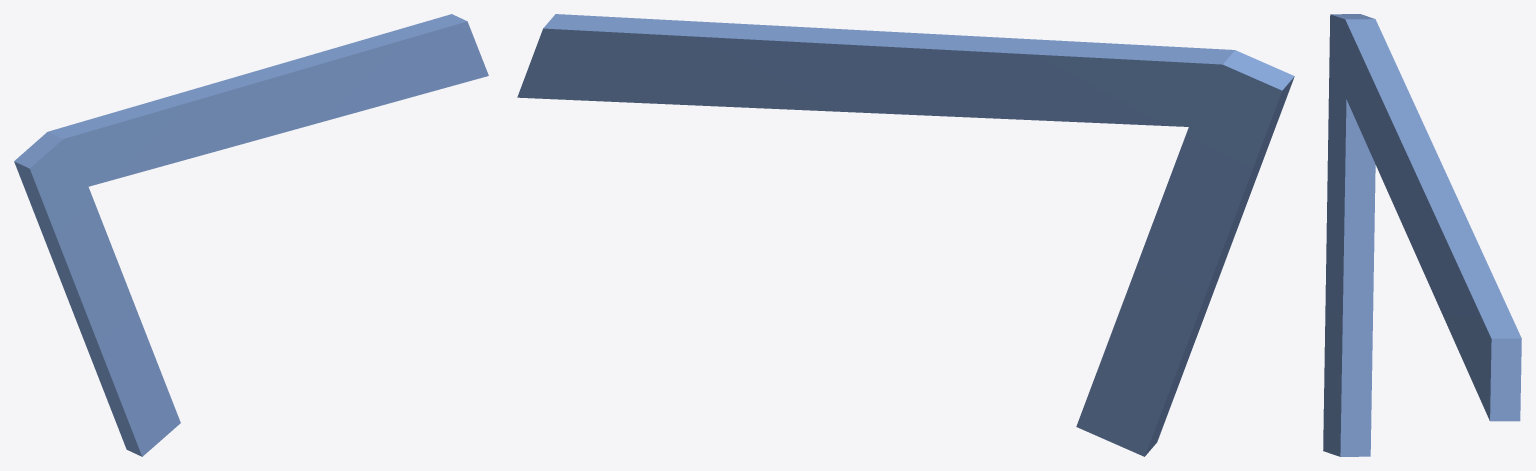
File: New_Number_7.gltf
3 renders of one model, left to right at view 1: azimuth 30°, elevation 25°; view 2: azimuth 150°, elevation 25°; view 3: azimuth 270°, elevation 25°, orthographic. The views are drawn at different scales.
Visible parts, largest first — view 1: Part 133; view 2: Part 133; view 3: Part 133.
Part boxes in pixels (x1,y1,x2,y2): Part 133: (14, 14, 488, 456); Part 133: (517, 14, 1294, 456); Part 133: (1323, 14, 1521, 456).
Size of the model in its own units: 0.00608 by 0.00362 by 0.00166.
